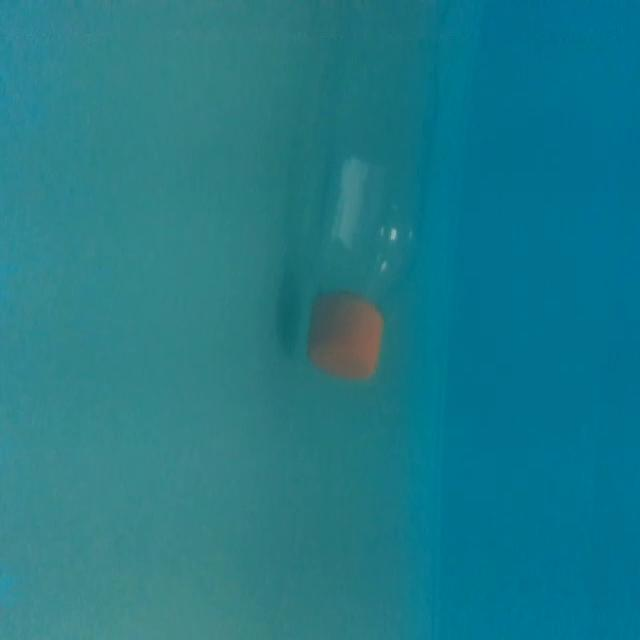plastic bottle: (303, 0, 455, 391)
